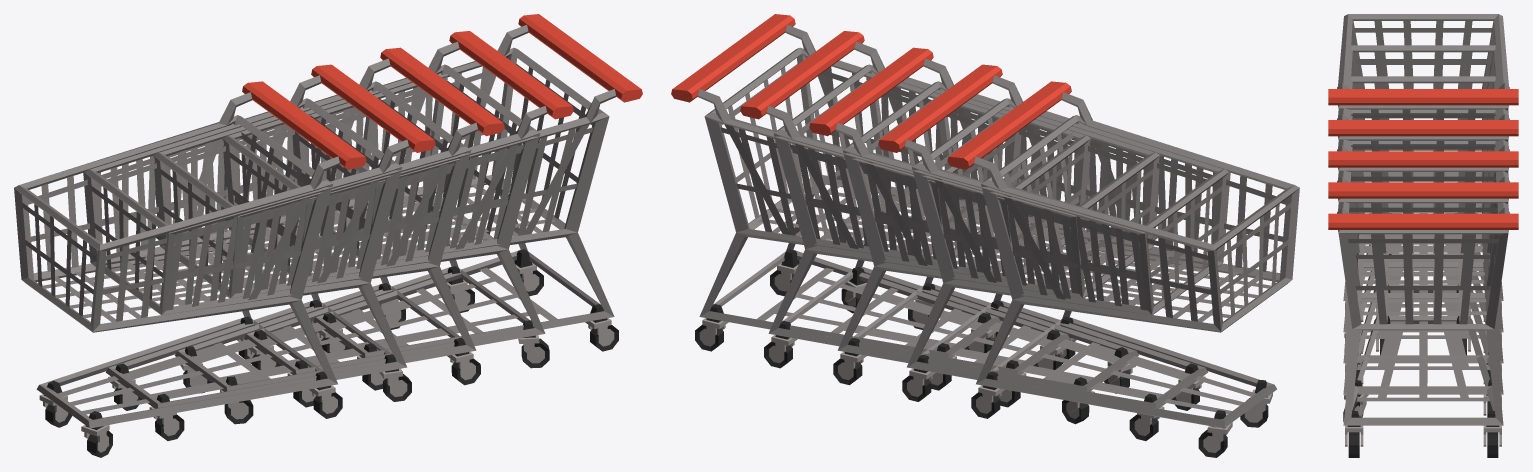
Rendered from apocalypse_shopping-trolley-row.fbx.
3 views of the same model, side by side, from view 1: azimuth 30°, elevation 25°; view 2: azimuth 150°, elevation 25°; view 3: azimuth 270°, elevation 25° (orthographic). The views are drawn at different scales.
Visible parts, largest first — view 1: apocalypse_shopping_trolley_row; view 2: apocalypse_shopping_trolley_row; view 3: apocalypse_shopping_trolley_row.
Part boxes in pixels (<box>): apocalypse_shopping_trolley_row: <box>14,14,642,457</box>; apocalypse_shopping_trolley_row: <box>671,14,1299,457</box>; apocalypse_shopping_trolley_row: <box>1328,14,1518,457</box>.
Bounding box in the file's own units: 200 × 95.02 × 66.68.
